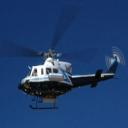helicopter: (1, 11, 126, 109)
